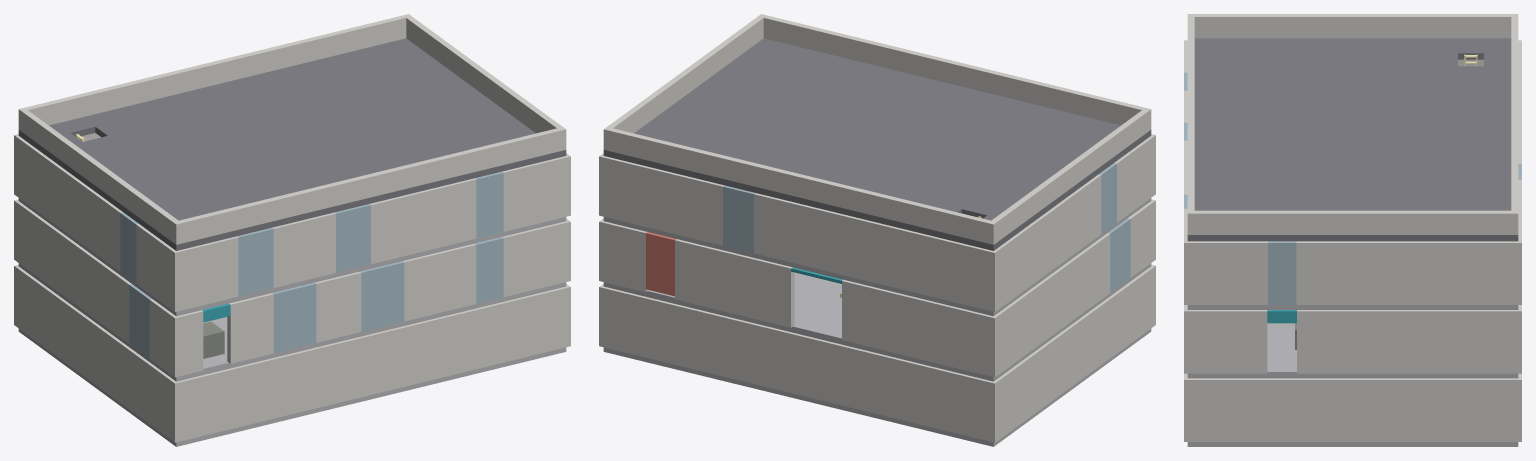
Rendered from strip_retail_a01.glb.
The picture shows the model from 3 angles, left to right: view 1: azimuth 30°, elevation 25°; view 2: azimuth 150°, elevation 25°; view 3: azimuth 270°, elevation 25°; orthographic projection. The views are drawn at different scales.
Parts seen in each view (by area): view 1: slab_2_t1_1, slab_2_t1_2, slab_2_t1_3, slab_2_t2_2, slab_2_t2_1, slab_2_t2_3, slab_2_t1_0, slab_2_t2_0, slab_2_t0_1, slab_2_t0_2, slab_2_t0_3, slab_2_t0_0 (+80 smaller); view 2: slab_2_t1_1, slab_2_t1_2, slab_2_t1_3, slab_2_t0_2, slab_2_t0_1, slab_2_t0_3, slab_2_t1_0, slab_2_t0_0, slab_2_t2_1, slab_2_t2_2, slab_2_t2_3, slab_2_t2_0 (+74 smaller); view 3: slab_2_t1_1, slab_2_t1_2, slab_2_t0_1, slab_2_t2_1, slab_2_t1_0, slab_2_t0_2, slab_2_t2_2, slab_2_t0_0, slab_2_t2_0, slab_2_t1_3, slab_2_t0_3, slab_2_t2_3 (+53 smaller).
Boxes of the visible parts, x1=… form: slab_2_t1_1: x1=169, y1=120, x2=318, y2=182; slab_2_t1_2: x1=266, y1=96, x2=415, y2=158; slab_2_t1_3: x1=364, y1=74, x2=507, y2=134; slab_2_t2_2: x1=217, y1=60, x2=363, y2=120; slab_2_t2_1: x1=120, y1=84, x2=265, y2=143; slab_2_t2_3: x1=315, y1=38, x2=454, y2=96; slab_2_t1_0: x1=71, y1=144, x2=220, y2=212; slab_2_t2_0: x1=18, y1=108, x2=168, y2=173; slab_2_t0_1: x1=221, y1=159, x2=371, y2=226; slab_2_t0_2: x1=319, y1=135, x2=468, y2=203; slab_2_t0_3: x1=416, y1=113, x2=566, y2=179; slab_2_t0_0: x1=123, y1=183, x2=273, y2=250; slab_2_t1_1: x1=851, y1=120, x2=1000, y2=182; slab_2_t1_2: x1=754, y1=96, x2=903, y2=158; slab_2_t1_3: x1=662, y1=74, x2=805, y2=134; slab_2_t0_2: x1=806, y1=60, x2=952, y2=120; slab_2_t0_1: x1=904, y1=84, x2=1049, y2=143; slab_2_t0_3: x1=715, y1=38, x2=854, y2=96; slab_2_t1_0: x1=949, y1=144, x2=1098, y2=212; slab_2_t0_0: x1=1001, y1=108, x2=1151, y2=173; slab_2_t2_1: x1=798, y1=159, x2=948, y2=226; slab_2_t2_2: x1=701, y1=135, x2=850, y2=203; slab_2_t2_3: x1=603, y1=113, x2=753, y2=179; slab_2_t2_0: x1=896, y1=183, x2=1046, y2=250; slab_2_t1_1: x1=1298, y1=85, x2=1407, y2=135; slab_2_t1_2: x1=1298, y1=135, x2=1407, y2=184; slab_2_t0_1: x1=1194, y1=85, x2=1297, y2=135; slab_2_t2_1: x1=1408, y1=85, x2=1511, y2=135; slab_2_t1_0: x1=1298, y1=38, x2=1407, y2=85; slab_2_t0_2: x1=1194, y1=135, x2=1297, y2=184; slab_2_t2_2: x1=1408, y1=135, x2=1511, y2=184; slab_2_t0_0: x1=1194, y1=38, x2=1297, y2=85; slab_2_t2_0: x1=1408, y1=38, x2=1511, y2=85; slab_2_t1_3: x1=1298, y1=185, x2=1407, y2=241; slab_2_t0_3: x1=1187, y1=185, x2=1297, y2=241; slab_2_t2_3: x1=1408, y1=185, x2=1518, y2=241.
Size of what is drawn, in the model's own units: 20.3 by 10.9 by 14.3.
